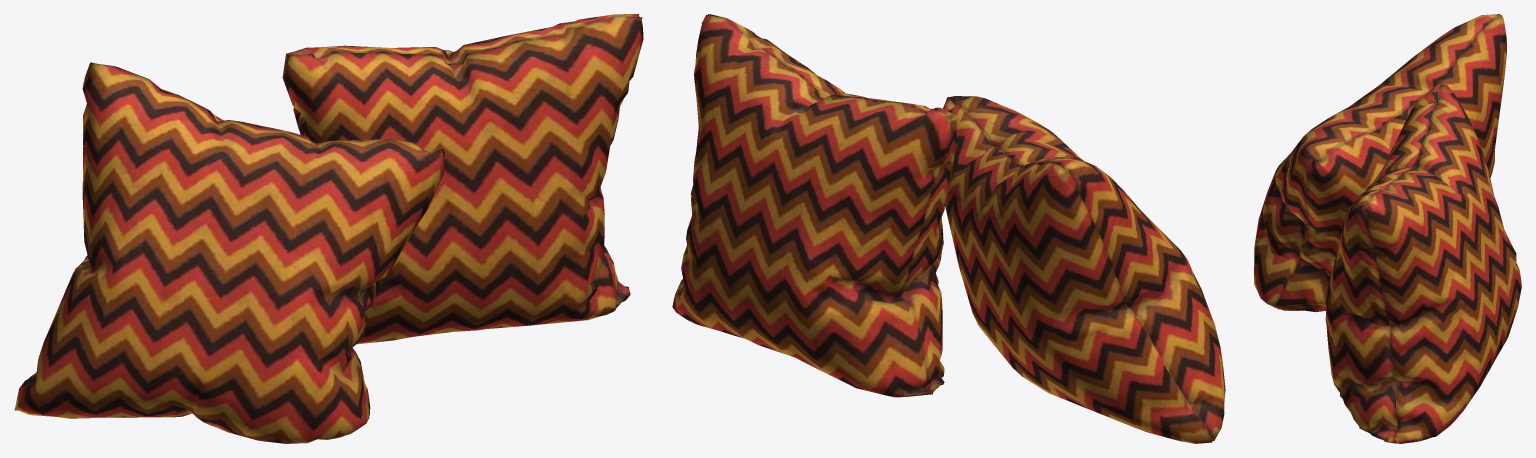
Rendered from throw_pillows_01.glb.
The picture shows the model from 3 angles, left to right: view 1: azimuth 30°, elevation 25°; view 2: azimuth 150°, elevation 25°; view 3: azimuth 270°, elevation 25°; orthographic projection. The views are drawn at different scales.
Parts seen in each view (by area): view 1: throw_pillows_01_pillow02; view 2: throw_pillows_01_pillow02; view 3: throw_pillows_01_pillow02.
Boxes of the visible parts, bbox=[...] form: throw_pillows_01_pillow02: bbox=[14, 14, 643, 443]; throw_pillows_01_pillow02: bbox=[672, 14, 1225, 443]; throw_pillows_01_pillow02: bbox=[1254, 14, 1521, 443].
Size of the model in its own units: 0.9401 by 0.45 by 0.4504.
1 material, 1 textured.
